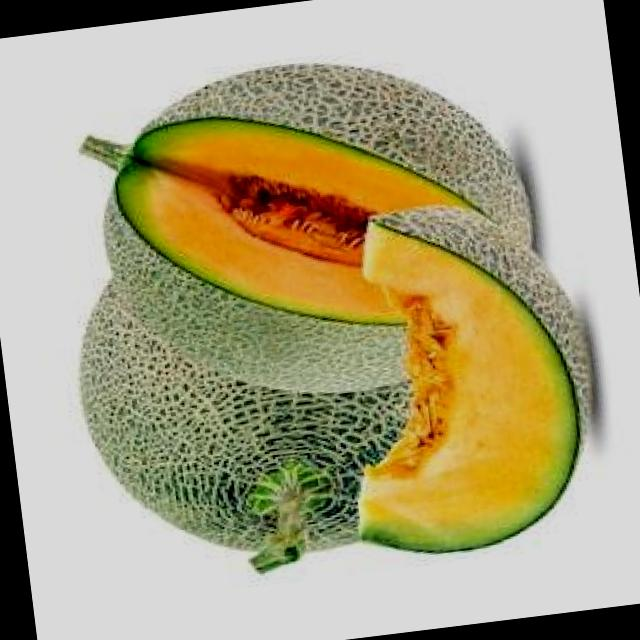cantaloupe: (72, 34, 556, 418), (320, 186, 614, 570)
